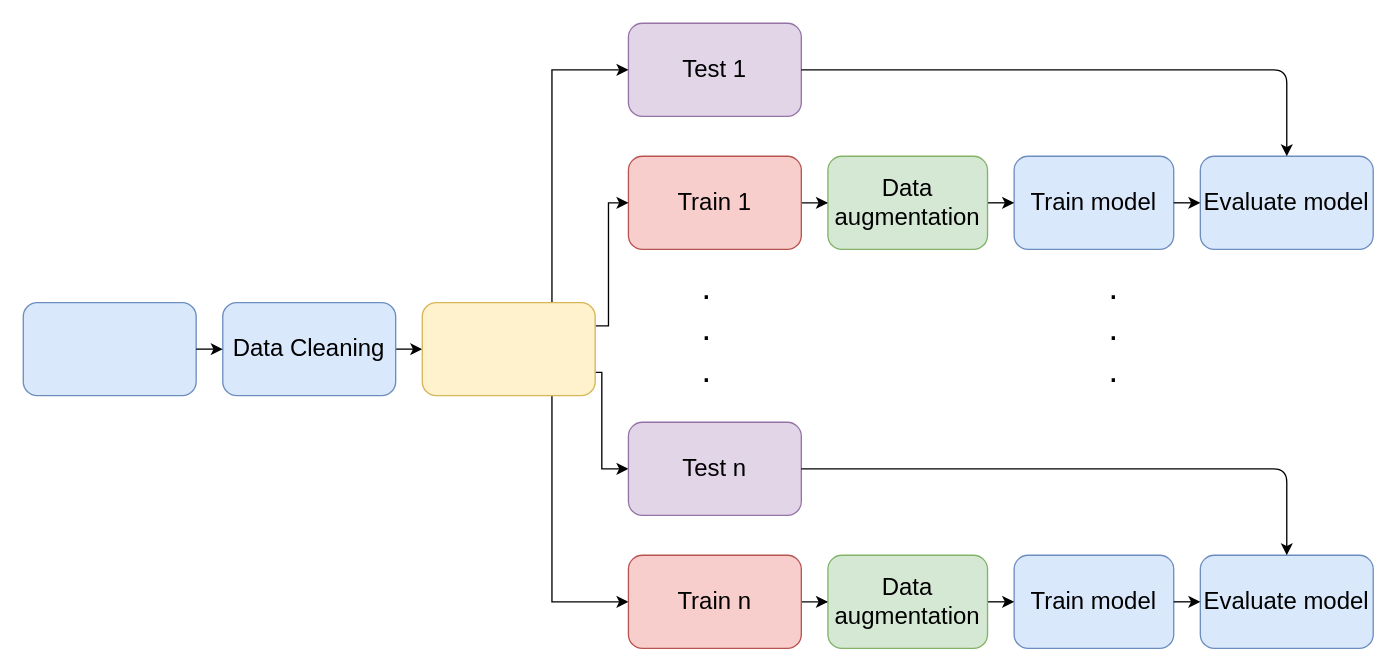
This 1397x672 diagram has some shape labels left out. Here are the shapes that lost their labels. From the top down, the centre of each, then its label:
At pixel 109 348: "Data Acquisition".
At pixel 508 348: "Sample datasets".
